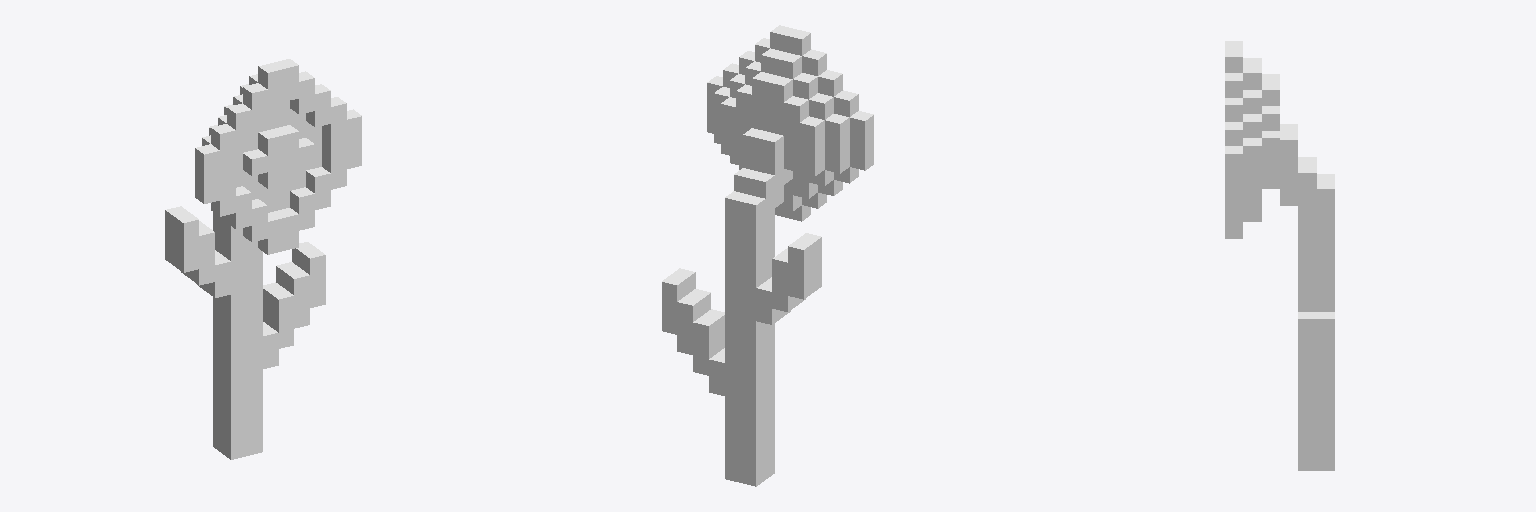
Rendered from RedFlower.obj.
The picture shows the model from 3 angles: view 1: azimuth 30°, elevation 25°; view 2: azimuth 150°, elevation 25°; view 3: azimuth 270°, elevation 25°; orthographic projection.
Parts seen in each view (by area): view 1: object 1; view 2: object 1; view 3: object 1.
Part boxes in pixels (x1,y1,x2,y2): object 1: (165, 59, 361, 459); object 1: (662, 25, 873, 486); object 1: (1225, 41, 1334, 470).
Bounding box in the file's own units: 1 × 2.5 × 0.6.